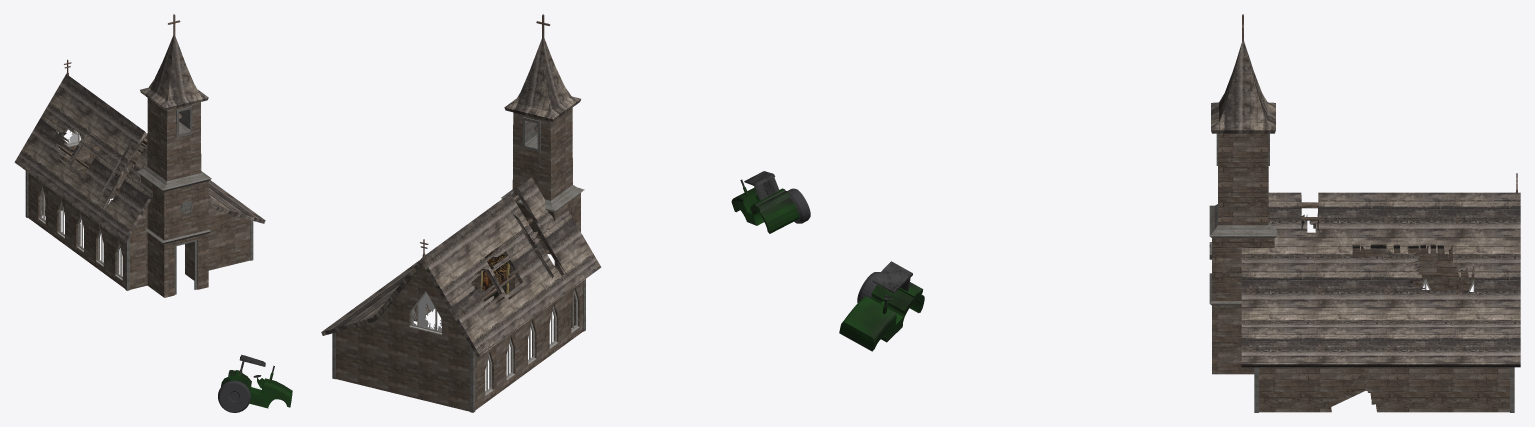
File: mapa.obj
The picture shows the model from 3 angles, left to right: view 1: azimuth 30°, elevation 25°; view 2: azimuth 150°, elevation 25°; view 3: azimuth 270°, elevation 25°; orthographic projection. The views are drawn at different scales.
Visible parts, largest first — view 1: tejado, iglesia, torre, tejado torre, Plane.005, Circle.002, DoorFrame, decor_torre; view 2: tejado, iglesia, torre, tejado torre, Plane.005, Plane_Plane.002, Cube.001_Cube.002, Circle.002, Plane.002; view 3: tejado, iglesia, torre, tejado torre, Plane.005, Cube.001_Cube.002.
Part boxes in pixels (bbox=[...]): tejado: bbox=[14, 74, 265, 243]; iglesia: bbox=[28, 133, 249, 297]; torre: bbox=[137, 98, 211, 234]; tejado torre: bbox=[140, 14, 208, 110]; Plane.005: bbox=[221, 370, 292, 408]; Circle.002: bbox=[218, 380, 250, 412]; DoorFrame: bbox=[174, 239, 197, 294]; decor_torre: bbox=[145, 228, 211, 244]; tejado: bbox=[321, 177, 601, 357]; iglesia: bbox=[336, 235, 583, 411]; torre: bbox=[501, 108, 584, 236]; tejado torre: bbox=[504, 14, 580, 121]; Plane.005: bbox=[731, 187, 799, 233]; Plane_Plane.002: bbox=[480, 250, 509, 302]; Cube.001_Cube.002: bbox=[744, 171, 779, 200]; Circle.002: bbox=[787, 188, 810, 223]; Plane.002: bbox=[412, 292, 441, 331]; tejado: bbox=[1241, 192, 1520, 367]; iglesia: bbox=[1212, 248, 1509, 412]; torre: bbox=[1209, 133, 1277, 293]; tejado torre: bbox=[1211, 14, 1275, 133]; Plane.005: bbox=[839, 282, 924, 351]; Cube.001_Cube.002: bbox=[872, 261, 912, 293].
Size of what is drawn, in the model's own units: 12.53 by 17.67 by 30.66.
Materials: 17 (16 with a texture image).
